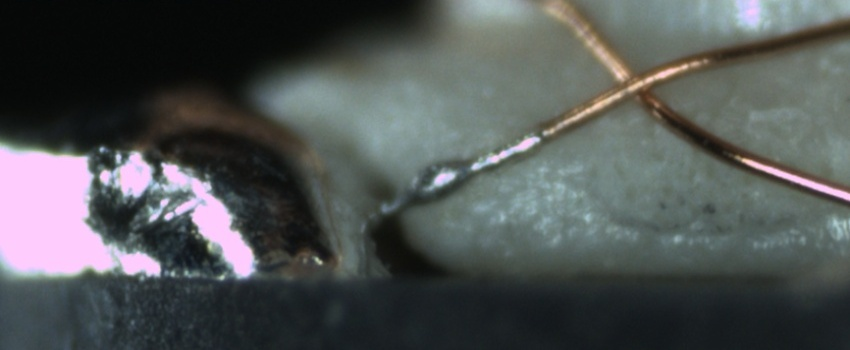CL: (595, 50, 679, 117)
TB: (403, 154, 475, 209)
TS: (367, 128, 547, 221)
TTCW: (370, 106, 585, 223)
